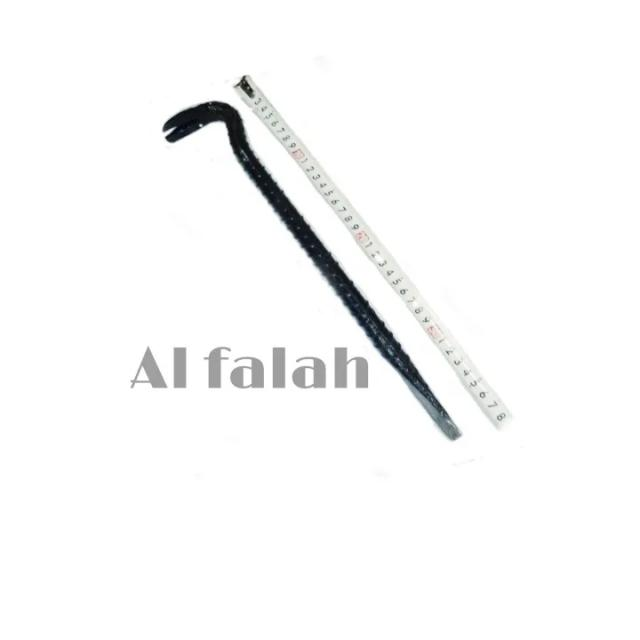Linggis: (161, 99, 460, 448)
